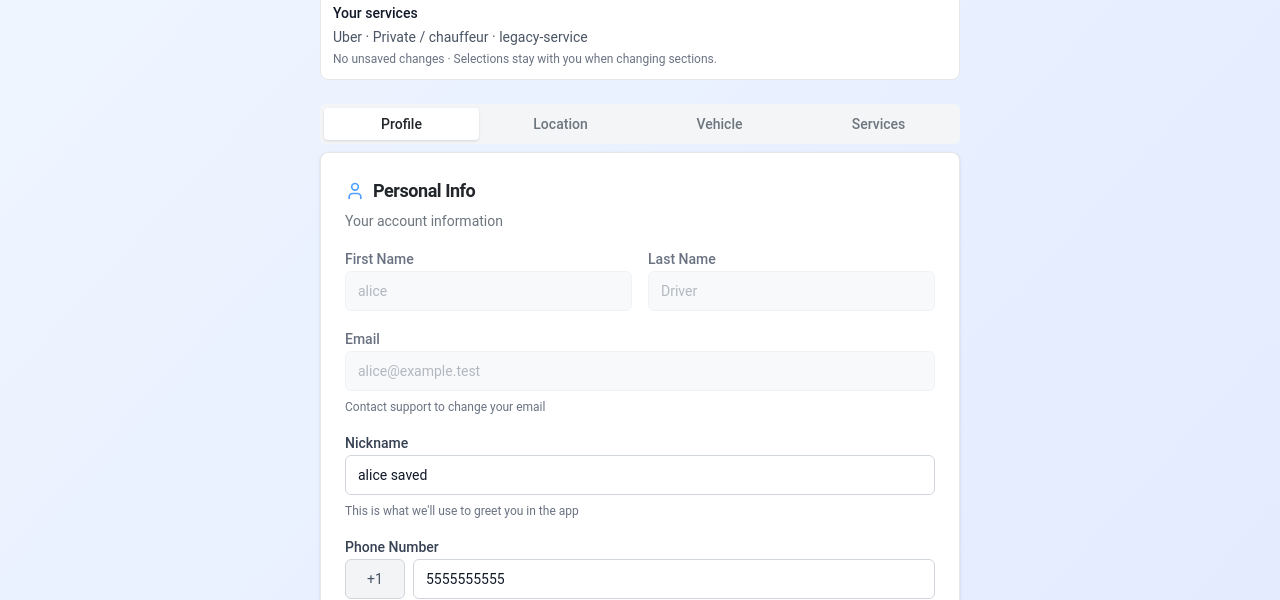
Test: an empty custom market reveals its labeled field from another section
Press the mouse on the tab "Location" at (560, 124), box [483,108,638,140]
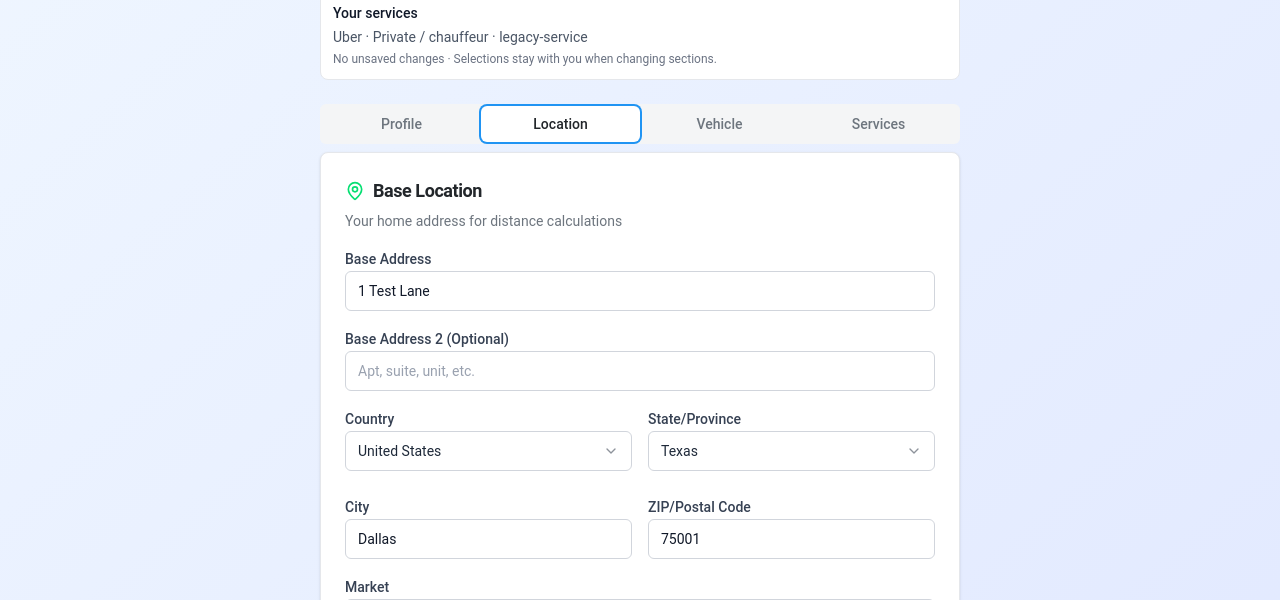
Press the mouse on the tab "Services" at (878, 124), box [801,108,956,140]
(page scrolled)
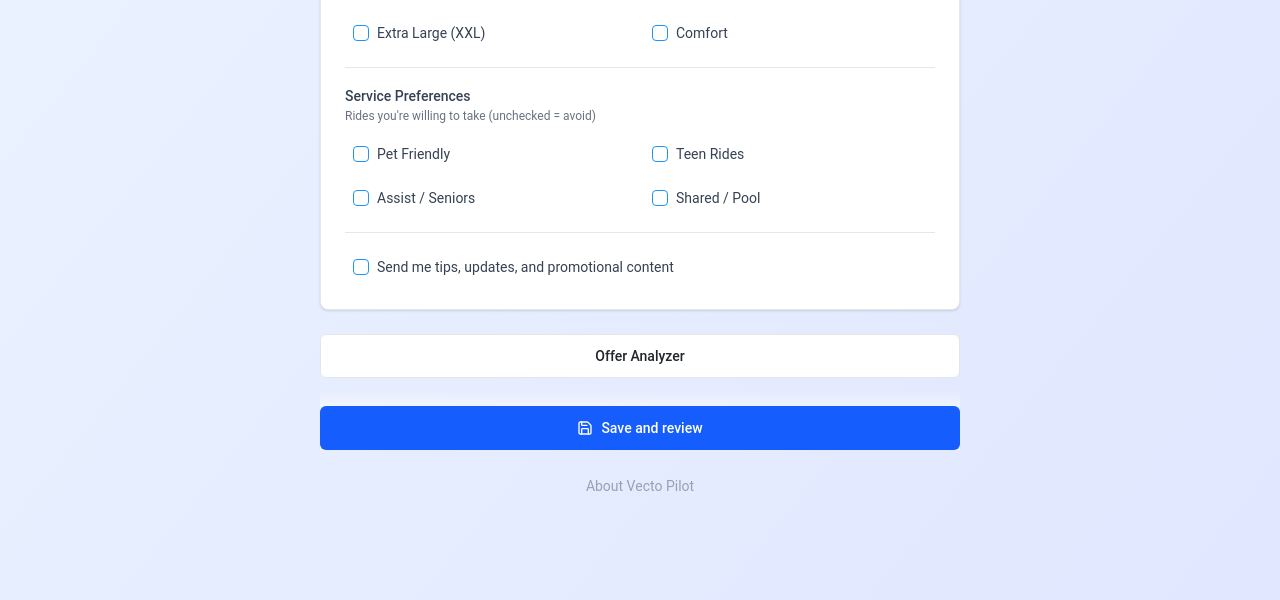
Click the button "Save and review" at (640, 428), box [320,406,960,450]
(page scrolled)
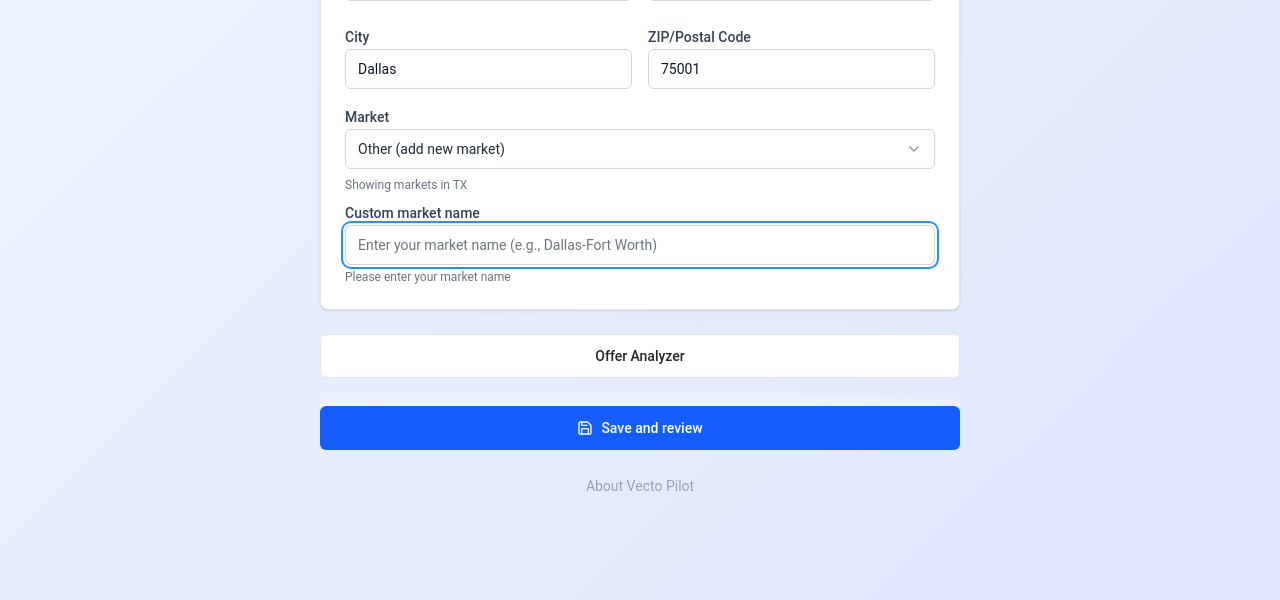
Expected: the text "Please enter your market name" is shown, [345,270,511,284]
